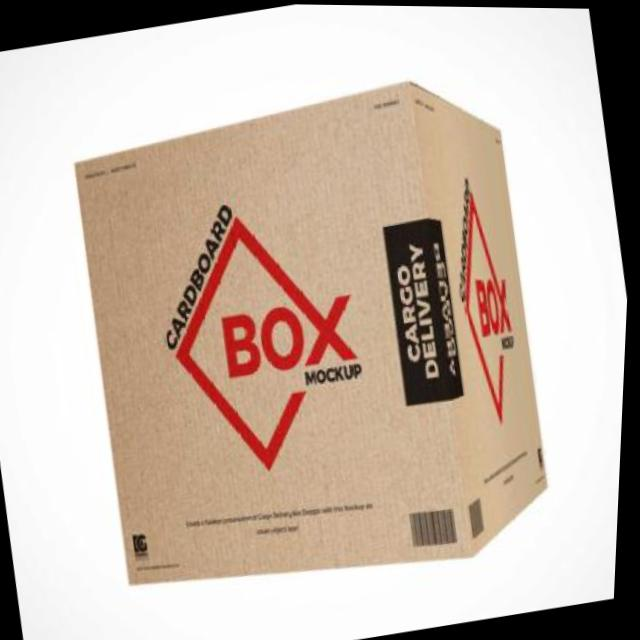box: (46, 58, 591, 630)
